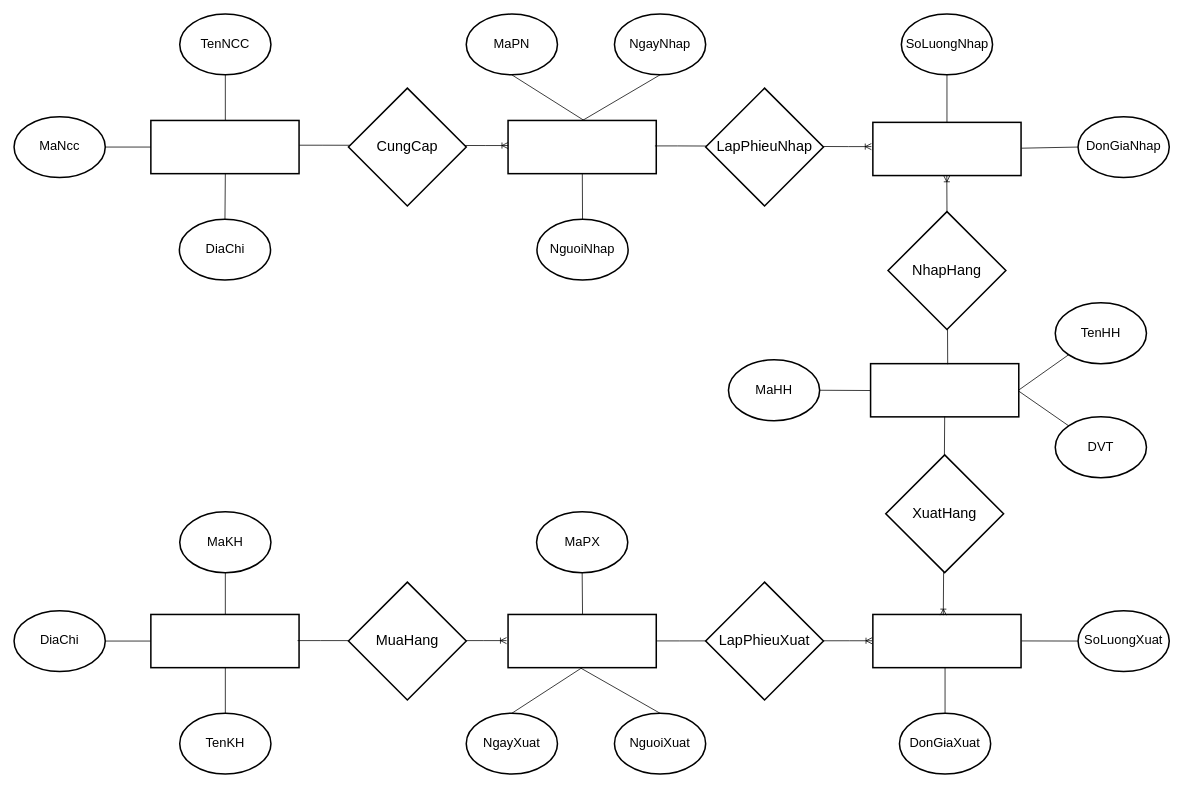
The diagram is 1183 pixels wide and 787 high, and some of its shapes have lost their labels. The centre of each missing label's shape, as x and y in pixels:
CHITIETPHIEUNHAP: the point at 946,148
CHITIETPHIEUXUAT: the point at 946,640
HANGHOA: the point at 944,390
KHACHHANG: the point at 224,640
NHACUNGCAP: the point at 224,146
PHIEUNHAPKHO: the point at 582,146
PHIEUXUATKHO: the point at 582,640
